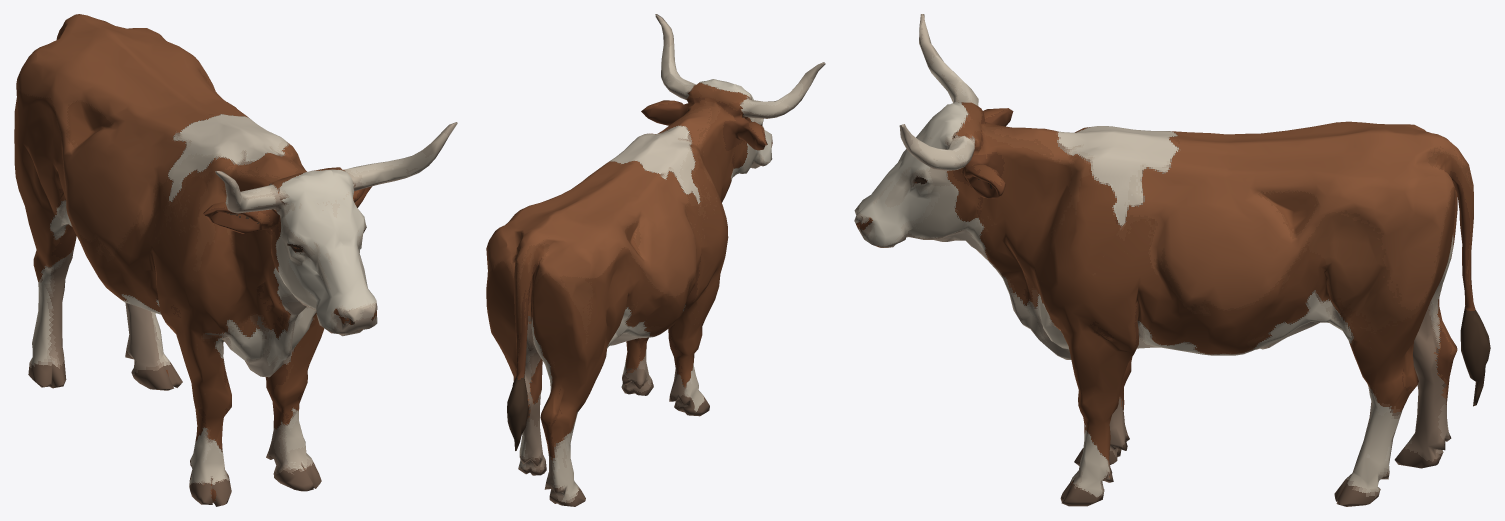
Rendered from buey.glb.
3 views of the same model, side by side, from view 1: azimuth 30°, elevation 25°; view 2: azimuth 150°, elevation 25°; view 3: azimuth 270°, elevation 25° (orthographic). The views are drawn at different scales.
Parts seen in each view (by area): view 1: tripo_node_32fb0c29-0552-48a2-9ab2-578a385fbbfc; view 2: tripo_node_32fb0c29-0552-48a2-9ab2-578a385fbbfc; view 3: tripo_node_32fb0c29-0552-48a2-9ab2-578a385fbbfc.
Part boxes in pixels (left/top/right/bottom): tripo_node_32fb0c29-0552-48a2-9ab2-578a385fbbfc: left=14, top=14, right=457, bottom=506; tripo_node_32fb0c29-0552-48a2-9ab2-578a385fbbfc: left=486, top=14, right=825, bottom=506; tripo_node_32fb0c29-0552-48a2-9ab2-578a385fbbfc: left=854, top=14, right=1490, bottom=506.
Size of the model in its own units: 0.5881 by 1 by 1.41.
Materials: 1 (1 with a texture image).
